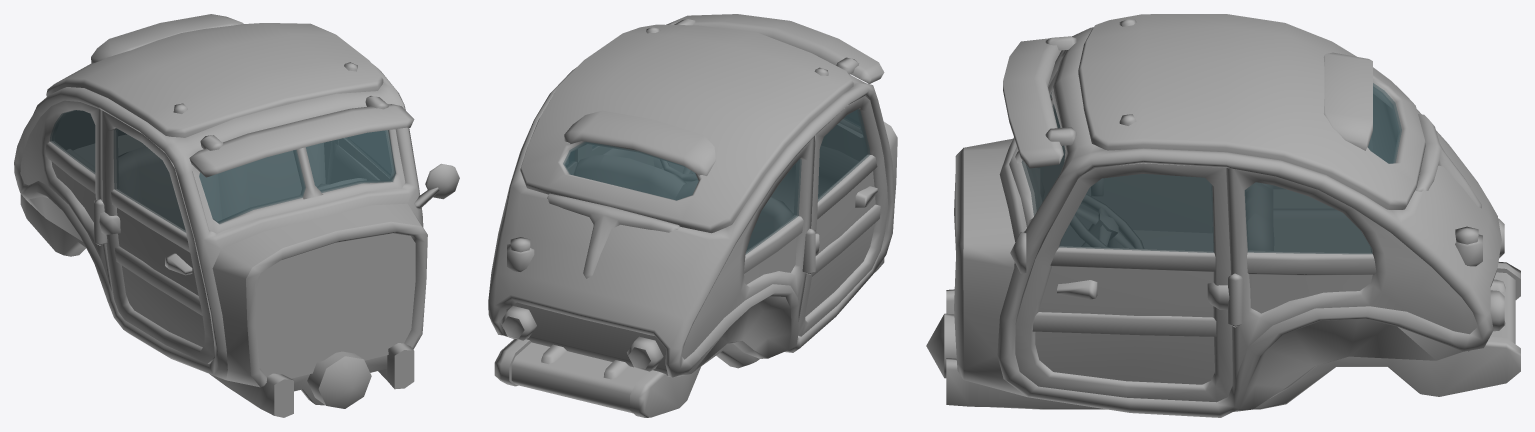
Rendered from Body_Woodster.fbx.
The picture shows the model from 3 angles, left to right: view 1: azimuth 30°, elevation 25°; view 2: azimuth 150°, elevation 25°; view 3: azimuth 270°, elevation 25°; orthographic projection. The views are drawn at different scales.
Parts seen in each view (by area): view 1: Woodster_Body_Mesh, Woodster_Roof_Mesh, Woodster_Door_Right_Mesh, Woodster_Body_Window_Mesh, Woodster_Body_Cap_Mesh, Woodster_Door_Right_Window_Mesh, Woodster_Door_Left_Mesh, Woodster_Door_Left_Window_Mesh; view 2: Woodster_Body_Mesh, Woodster_Roof_Mesh, Woodster_Door_Right_Mesh, Woodster_Roof_Window_Mesh, Woodster_Body_Cap_Mesh, Woodster_Door_Right_Window_Mesh, Woodster_Body_Window_Mesh, Woodster_Door_Left_Mesh; view 3: Woodster_Body_Mesh, Woodster_Roof_Mesh, Woodster_Door_Left_Mesh, Woodster_Door_Left_Window_Mesh, Woodster_Body_Window_Mesh, Woodster_Door_Right_Mesh, Woodster_Body_Cap_Mesh, Body_SteerWheel_Mesh, Woodster_Roof_Window_Mesh.
Part boxes in pixels (x1,y1,x2,y2): Woodster_Body_Mesh: (14,63,459,417); Woodster_Roof_Mesh: (46,14,383,137); Woodster_Door_Right_Mesh: (99,110,214,363); Woodster_Body_Window_Mesh: (50,110,395,223); Woodster_Body_Cap_Mesh: (189,96,414,177); Woodster_Door_Right_Window_Mesh: (113,128,185,232); Woodster_Door_Left_Mesh: (327,138,389,183); Woodster_Door_Left_Window_Mesh: (348,131,391,175); Woodster_Body_Mesh: (488,67,897,417); Woodster_Roof_Mesh: (520,24,853,233); Woodster_Door_Right_Mesh: (798,96,888,336); Woodster_Roof_Window_Mesh: (563,141,698,200); Woodster_Body_Cap_Mesh: (666,14,884,83); Woodster_Door_Right_Window_Mesh: (818,109,870,201); Woodster_Body_Window_Mesh: (565,111,859,254); Woodster_Door_Left_Mesh: (586,144,691,173); Woodster_Body_Mesh: (926,27,1520,417); Woodster_Roof_Mesh: (1078,14,1425,209); Woodster_Door_Left_Mesh: (1015,163,1232,402); Woodster_Door_Left_Window_Mesh: (1059,174,1214,252); Woodster_Body_Window_Mesh: (1021,91,1372,254); Woodster_Door_Right_Mesh: (1038,117,1212,246); Woodster_Body_Cap_Mesh: (1003,36,1076,168); Body_SteerWheel_Mesh: (1070,194,1143,248); Woodster_Roof_Window_Mesh: (1368,83,1401,163).
Bounding box in the file's own units: 175 × 171 × 284.
